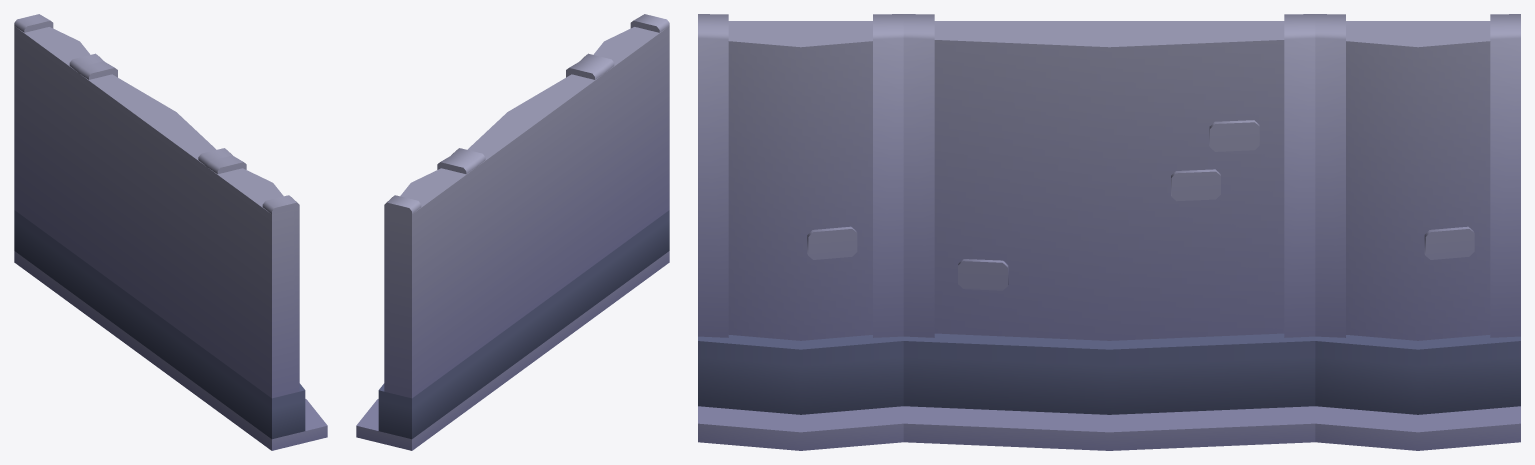
The model's file is corridor-wide-nopillar.fbx.
The picture shows the model from 3 angles, left to right: view 1: azimuth 30°, elevation 25°; view 2: azimuth 150°, elevation 25°; view 3: azimuth 270°, elevation 25°; orthographic projection. The views are drawn at different scales.
Parts seen in each view (by area): view 1: corridor-wide.005; view 2: corridor-wide.005; view 3: corridor-wide.005.
Boxes of the visible parts, left/top/right/bottom form: corridor-wide.005: left=14, top=14, right=327, bottom=450; corridor-wide.005: left=356, top=14, right=669, bottom=450; corridor-wide.005: left=698, top=14, right=1520, bottom=450.
Bounding box in the file's own units: 48.08 × 166 × 320.
